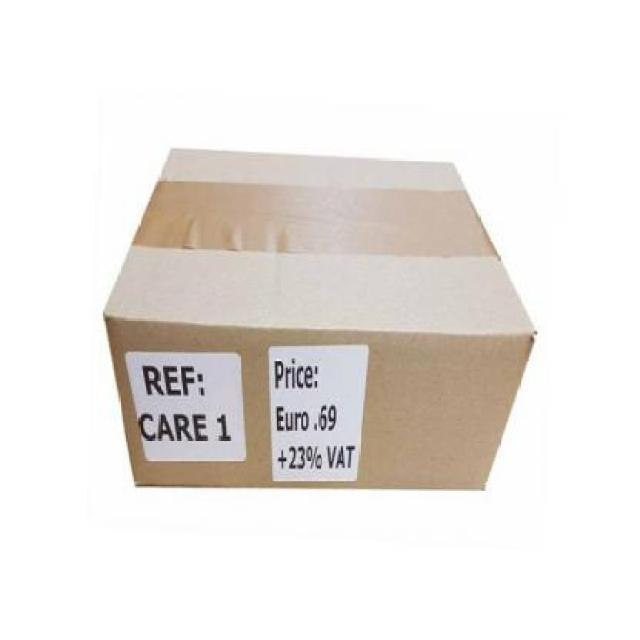cardboxes: (99, 148, 533, 489)
